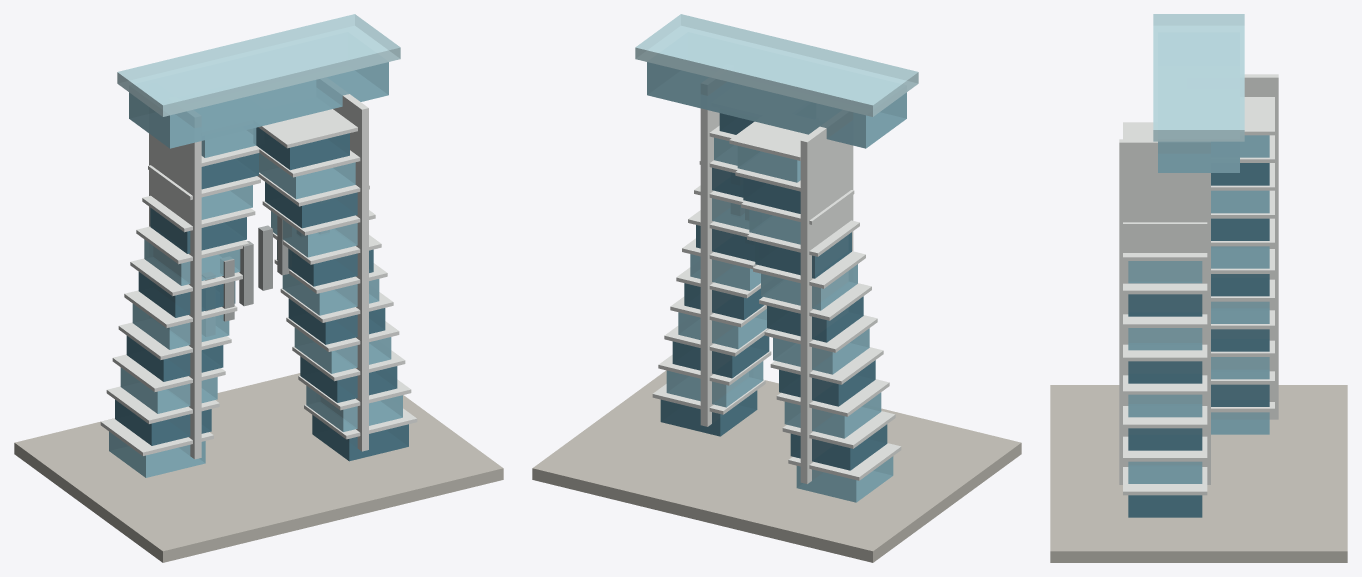
The model's file is voxel-beijing-cctv.gltf.
3 views of the same model, side by side, from view 1: azimuth 30°, elevation 25°; view 2: azimuth 150°, elevation 25°; view 3: azimuth 270°, elevation 25° (orthographic).
Size of the model in its own units: 4.9 by 5.6 by 3.7.
